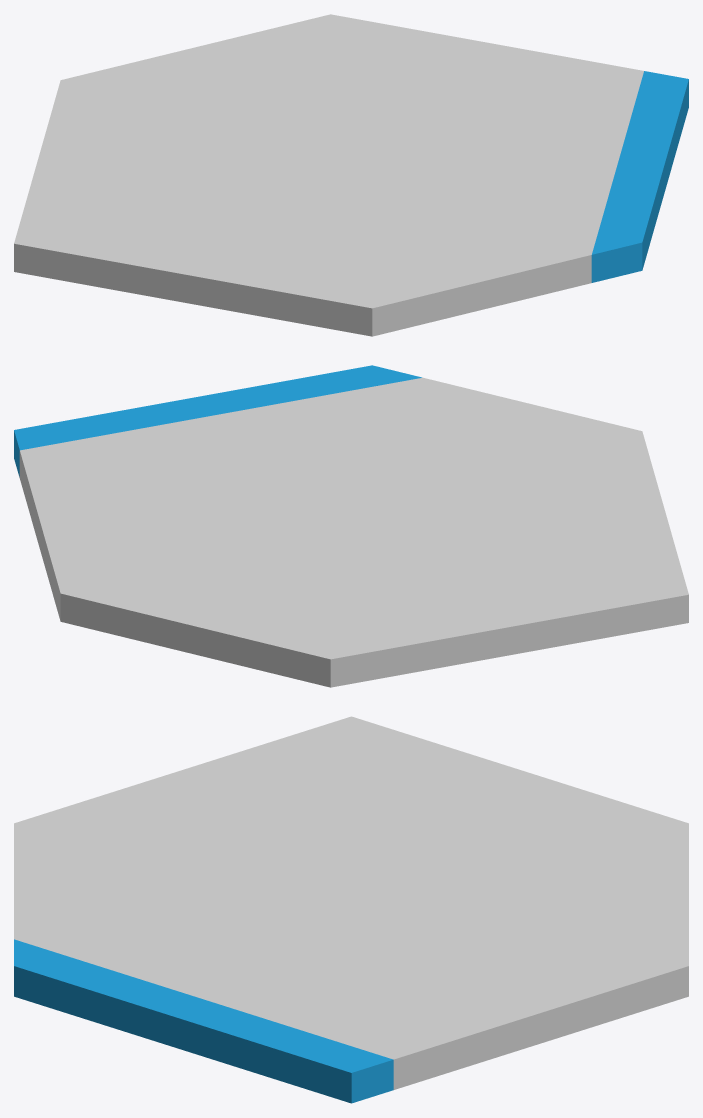
The picture shows the model from 3 angles, top to bottom: view 1: azimuth 30°, elevation 25°; view 2: azimuth 150°, elevation 25°; view 3: azimuth 270°, elevation 25°; orthographic projection. The views are drawn at different scales.
Visible parts, largest first — view 1: Hexagon, SE; view 2: Hexagon, SE; view 3: Hexagon, SE.
Boxes of the visible parts, x1=… form: Hexagon: x1=14, y1=14, x2=643, y2=336; SE: x1=591, y1=71, x2=688, y2=282; Hexagon: x1=19, y1=377, x2=688, y2=687; SE: x1=14, y1=365, x2=421, y2=477; Hexagon: x1=14, y1=716, x2=688, y2=1089; SE: x1=14, y1=939, x2=393, y2=1103.
Size of the model in its own units: 5 by 4 by 0.2.
